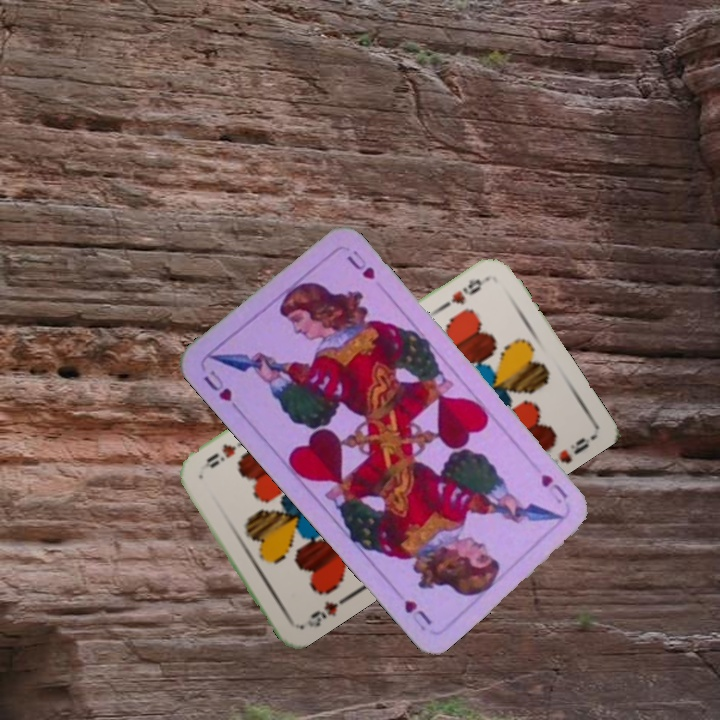H9: (303, 591, 352, 631), (447, 274, 490, 308)
HU: (199, 365, 235, 404), (536, 470, 571, 507)
